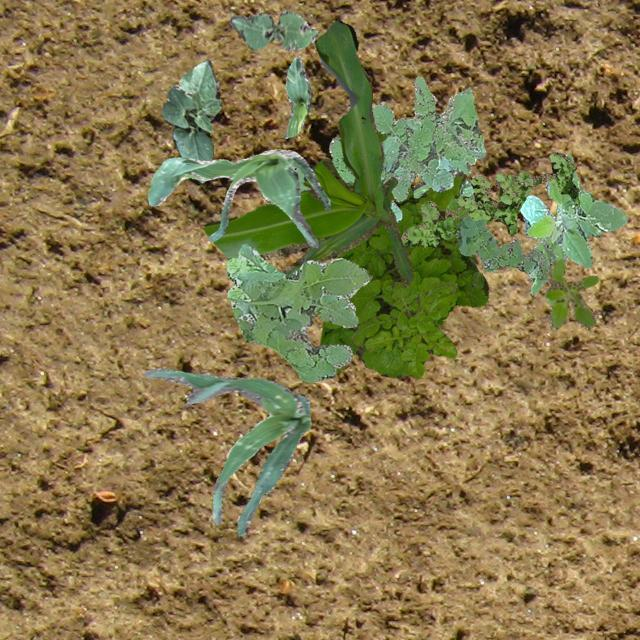crop: (202, 19, 412, 282), (144, 368, 310, 534), (146, 148, 330, 246), (518, 152, 626, 294), (160, 59, 220, 160), (228, 10, 318, 50), (282, 54, 312, 138), (412, 178, 472, 198)
weed: (318, 128, 488, 378), (294, 76, 484, 222), (226, 242, 372, 382), (400, 150, 578, 247), (350, 280, 456, 378), (454, 194, 556, 280), (544, 258, 598, 330)
